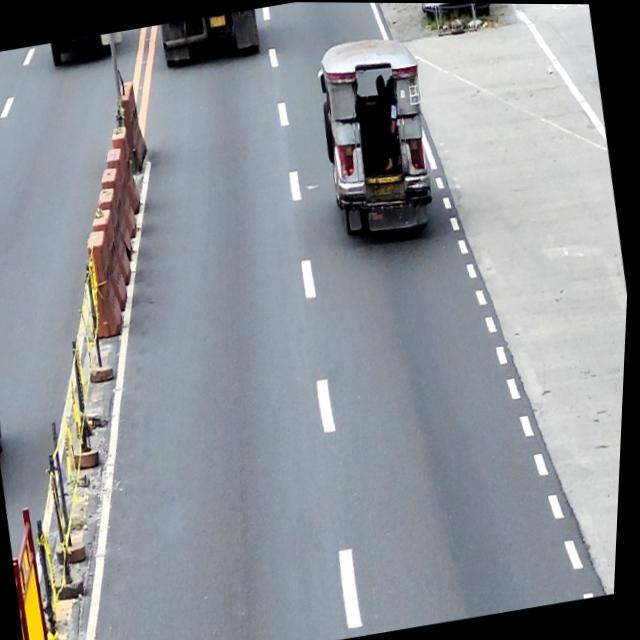Jeep: (306, 27, 449, 249)
License-Plate: (373, 179, 398, 196)
